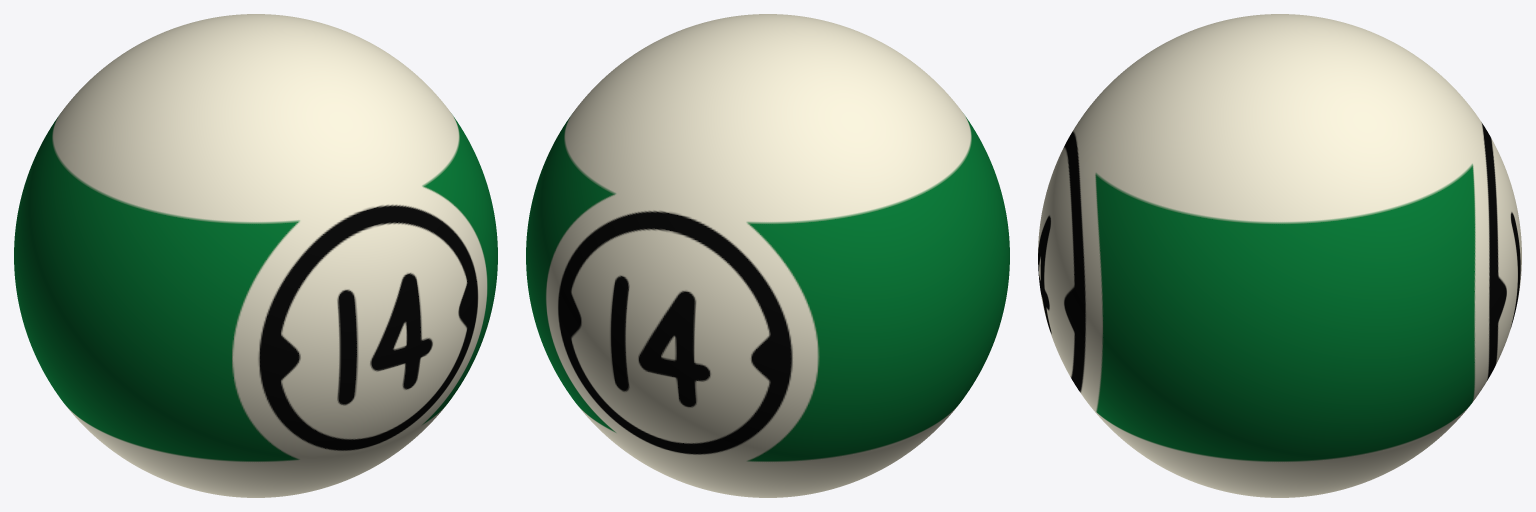
The picture shows the model from 3 angles, left to right: view 1: azimuth 30°, elevation 25°; view 2: azimuth 150°, elevation 25°; view 3: azimuth 270°, elevation 25°; orthographic projection.
Visible parts, largest first — view 1: Billiard_Ball_14; view 2: Billiard_Ball_14; view 3: Billiard_Ball_14.
Boxes of the visible parts, x1,y1,x2,y2 form: Billiard_Ball_14: (14,14,497,497); Billiard_Ball_14: (526,14,1009,497); Billiard_Ball_14: (1038,14,1521,497).
Bounding box in the file's own units: 0.0571 × 0.0571 × 0.0571.
Materials: 1 (1 with a texture image).
